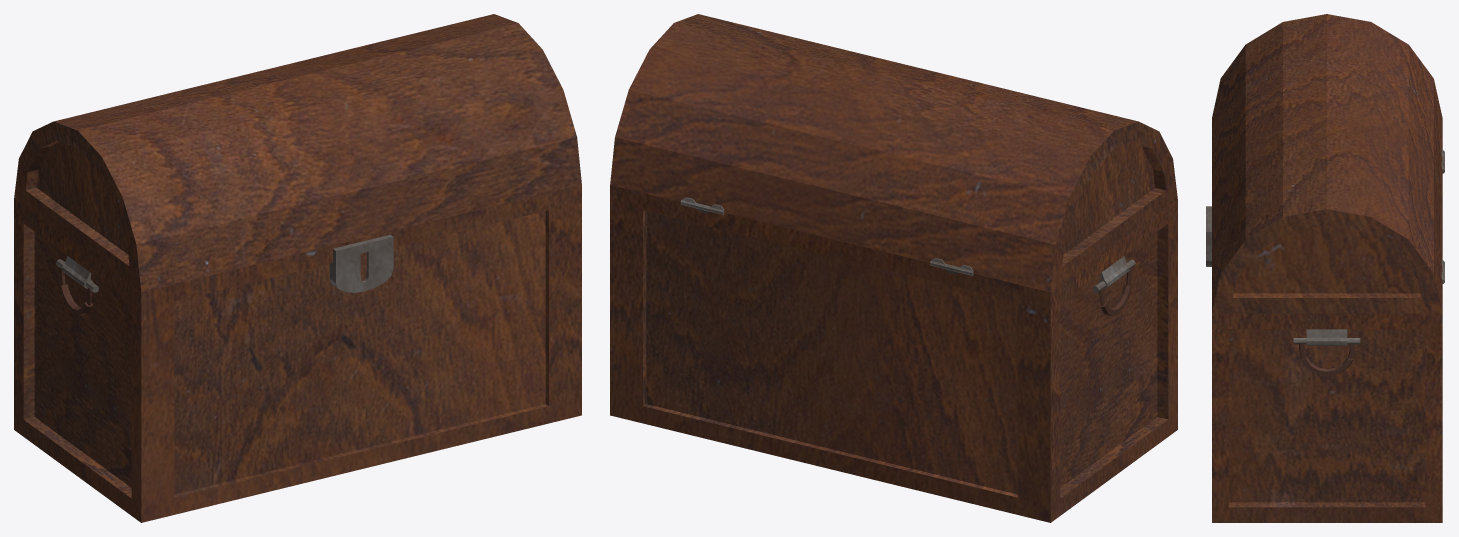
File: chest_unwrapped_diffuse.fbx
The picture shows the model from 3 angles, left to right: view 1: azimuth 30°, elevation 25°; view 2: azimuth 150°, elevation 25°; view 3: azimuth 270°, elevation 25°; orthographic projection. The views are drawn at different scales.
Parts seen in each view (by area): view 1: Chest_Bottom, Chest_Top; view 2: Chest_Bottom, Chest_Top; view 3: Chest_Top, Chest_Bottom.
Boxes of the visible parts, x1,y1,x2,y2 form: Chest_Bottom: [14, 185, 581, 522]; Chest_Top: [14, 14, 581, 292]; Chest_Bottom: [610, 185, 1177, 522]; Chest_Top: [610, 14, 1177, 292]; Chest_Top: [1212, 14, 1444, 313]; Chest_Bottom: [1206, 156, 1444, 522].
Bounding box in the file's own units: 408 × 300 × 207.
Materials: 1 (1 with a texture image).
